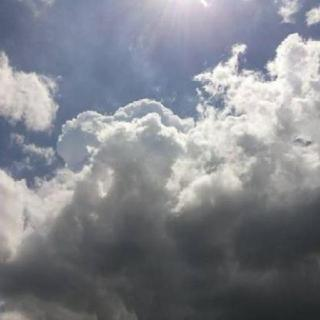Altostratus: (0, 18, 320, 320)
